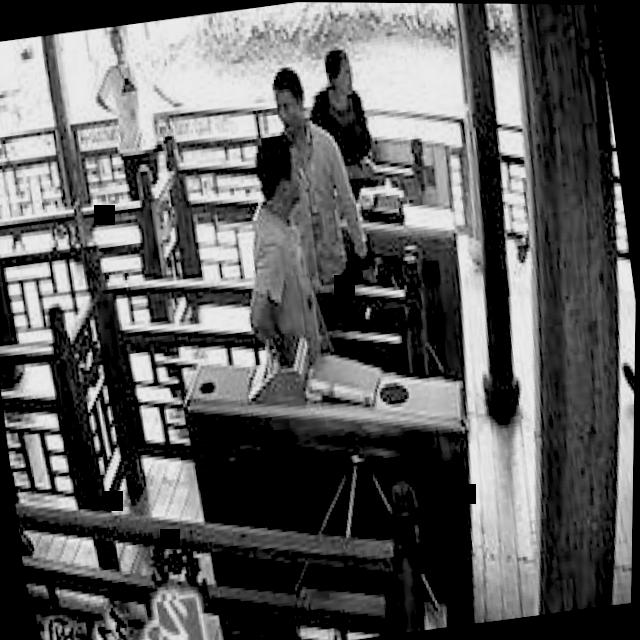Fall-Detected: (602, 345, 636, 601)
